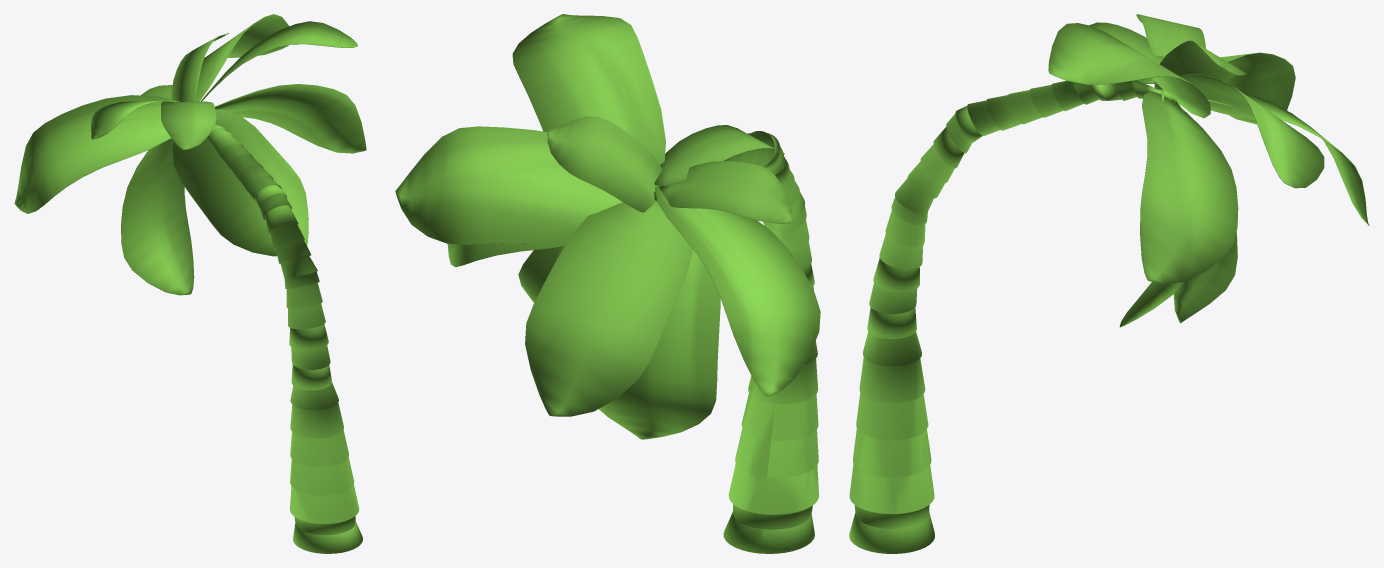
The model's file is palm1.fbx.
3 views of the same model, side by side, from view 1: azimuth 30°, elevation 25°; view 2: azimuth 150°, elevation 25°; view 3: azimuth 270°, elevation 25° (orthographic). The views are drawn at different scales.
Visible parts, largest first — view 1: Palm Low.019; view 2: Palm Low.019; view 3: Palm Low.019.
Part boxes in pixels (box(x1,y1,x2,y2)): Palm Low.019: box(14, 14, 366, 553); Palm Low.019: box(395, 14, 820, 553); Palm Low.019: box(849, 14, 1369, 553).
Bounding box in the file's own units: 927 × 1265 × 1120.
